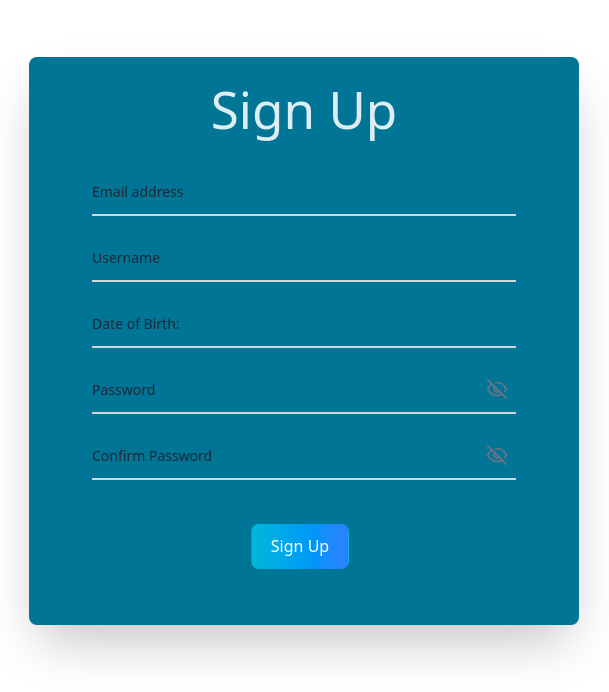
it: Sign Up Flow › should show if the the age is eligible to register
Click the field named "birthDate" at [304, 325], box [92,302,516,348]
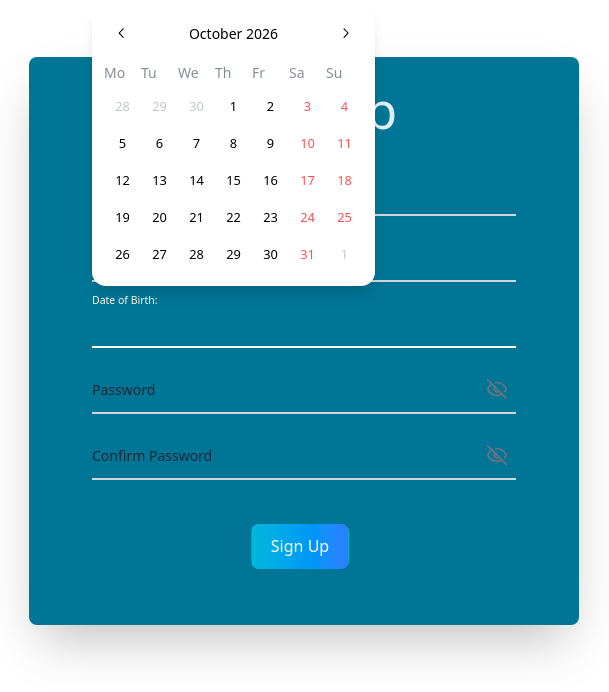
Click the button "October 2026" at [234, 34], box [140,16,327,52]
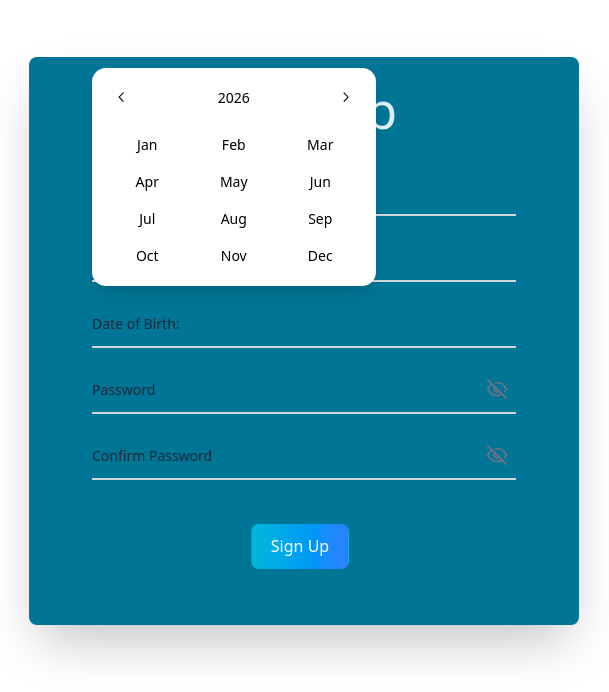
Click the button "2026" at [234, 98], box [140,80,328,116]
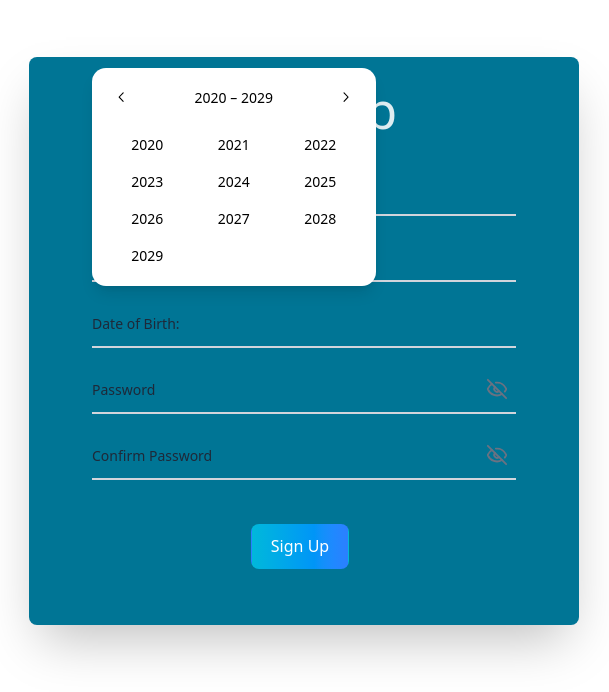
Click the button "2025" at [321, 181], box [278,163,364,199]
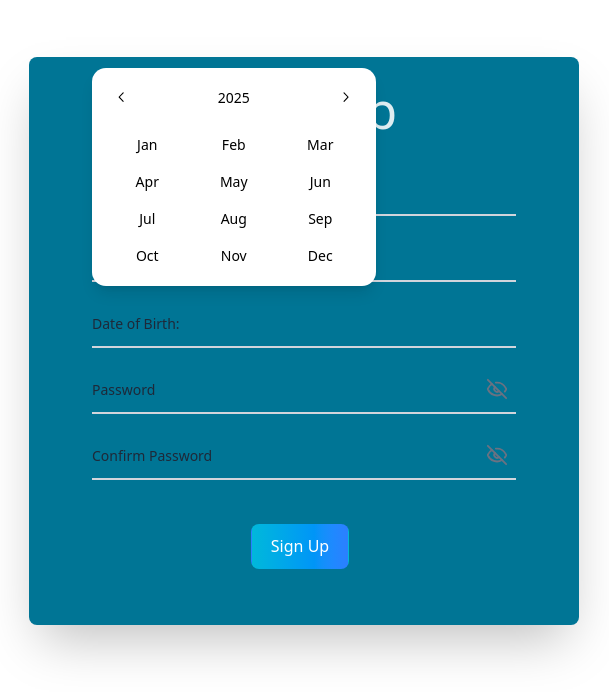
Click the button "Nov" at [234, 255], box [191,237,277,273]
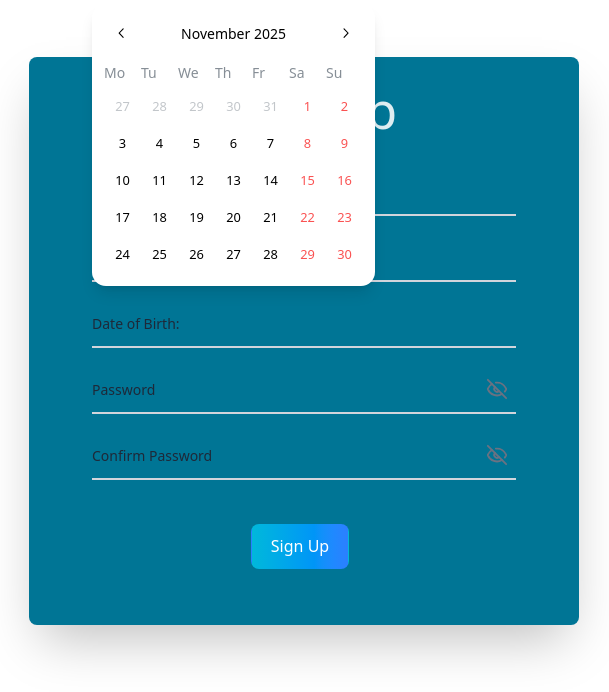
Click the button "10" at [123, 181], box [105,163,141,199]
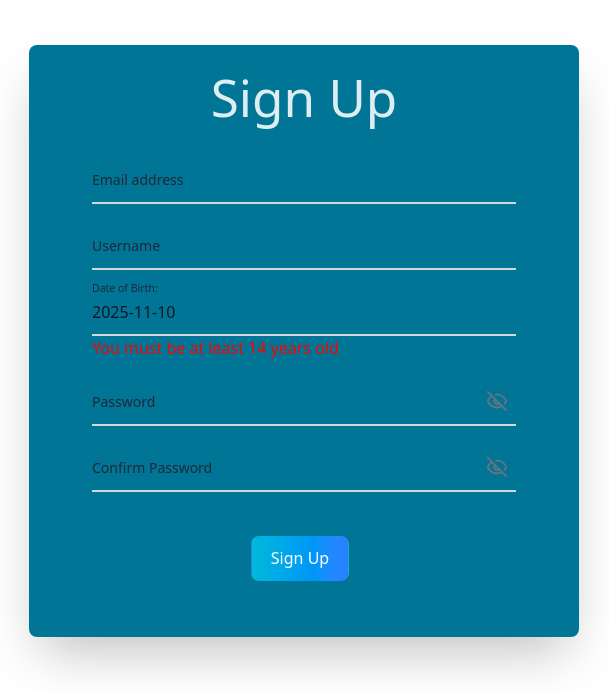
Check: the text "You must be at least 14 years old" is shown, box [92,337,339,359]
